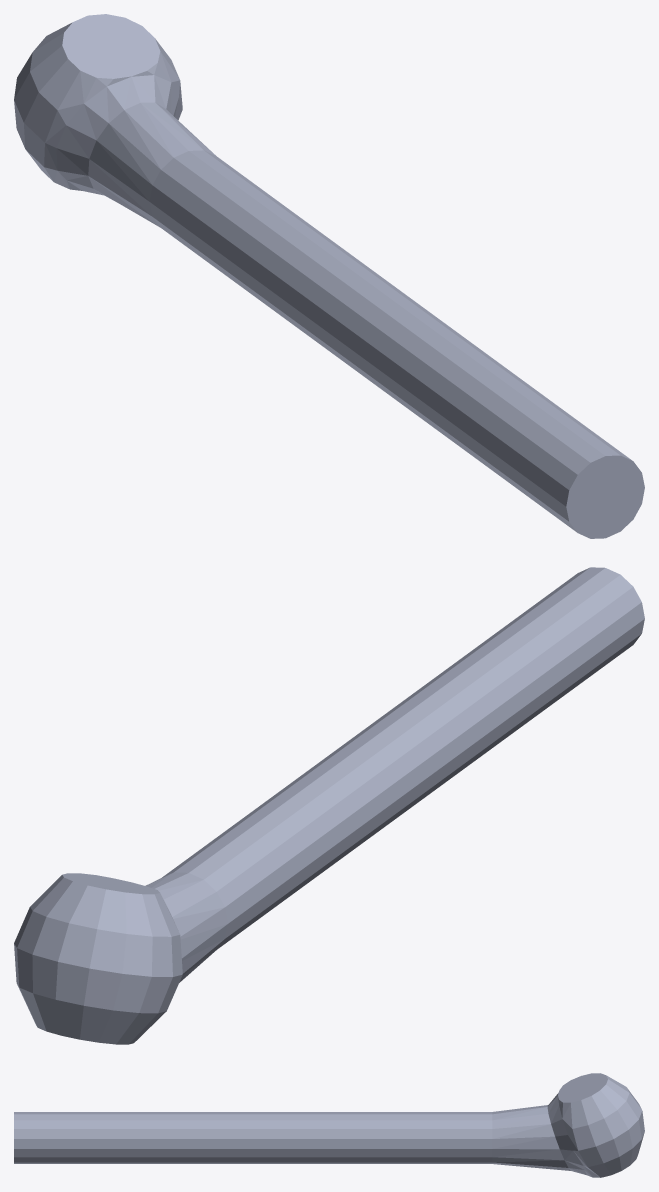
The model's file is foot.obj.
3 views of the same model, one above another, from view 1: azimuth 30°, elevation 25°; view 2: azimuth 150°, elevation 25°; view 3: azimuth 270°, elevation 25° (orthographic). The views are drawn at different scales.
Visible parts, largest first — view 1: Cylinder-mesh; view 2: Cylinder-mesh; view 3: Cylinder-mesh.
Part boxes in pixels (box(x1,y1,x2,y2)): Cylinder-mesh: box(14, 14, 644, 538); Cylinder-mesh: box(14, 567, 644, 1044); Cylinder-mesh: box(14, 1073, 644, 1177).
Size of the model in its own units: 0.0672 by 0.0687 by 0.4288.
